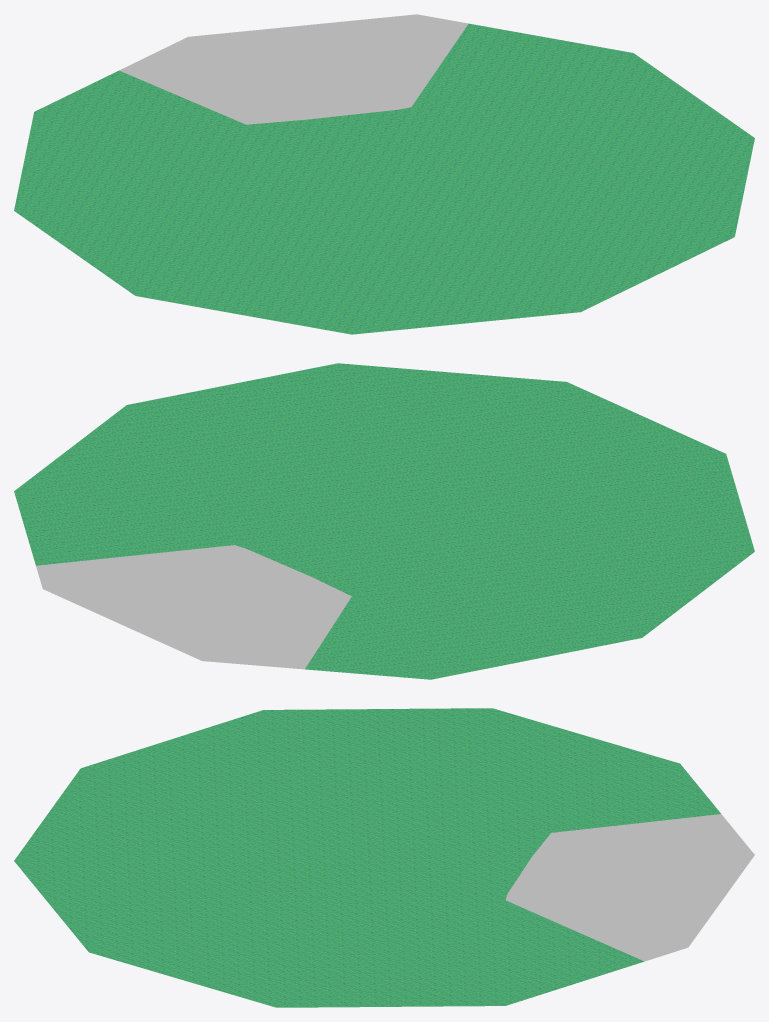
The model's file is Area3Garden.fbx.
The picture shows the model from 3 angles, top to bottom: view 1: azimuth 30°, elevation 25°; view 2: azimuth 150°, elevation 25°; view 3: azimuth 270°, elevation 25°; orthographic projection. The views are drawn at different scales.
Parts seen in each view (by area): view 1: AreaColumnGarden.001; view 2: AreaColumnGarden.001; view 3: AreaColumnGarden.001.
Part boxes in pixels (x1,y1,x2,y2): AreaColumnGarden.001: [14, 14, 754, 334]; AreaColumnGarden.001: [14, 363, 754, 679]; AreaColumnGarden.001: [14, 708, 754, 1007].
Bounding box in the file's own units: 4695 × 0.00457 × 4906.
